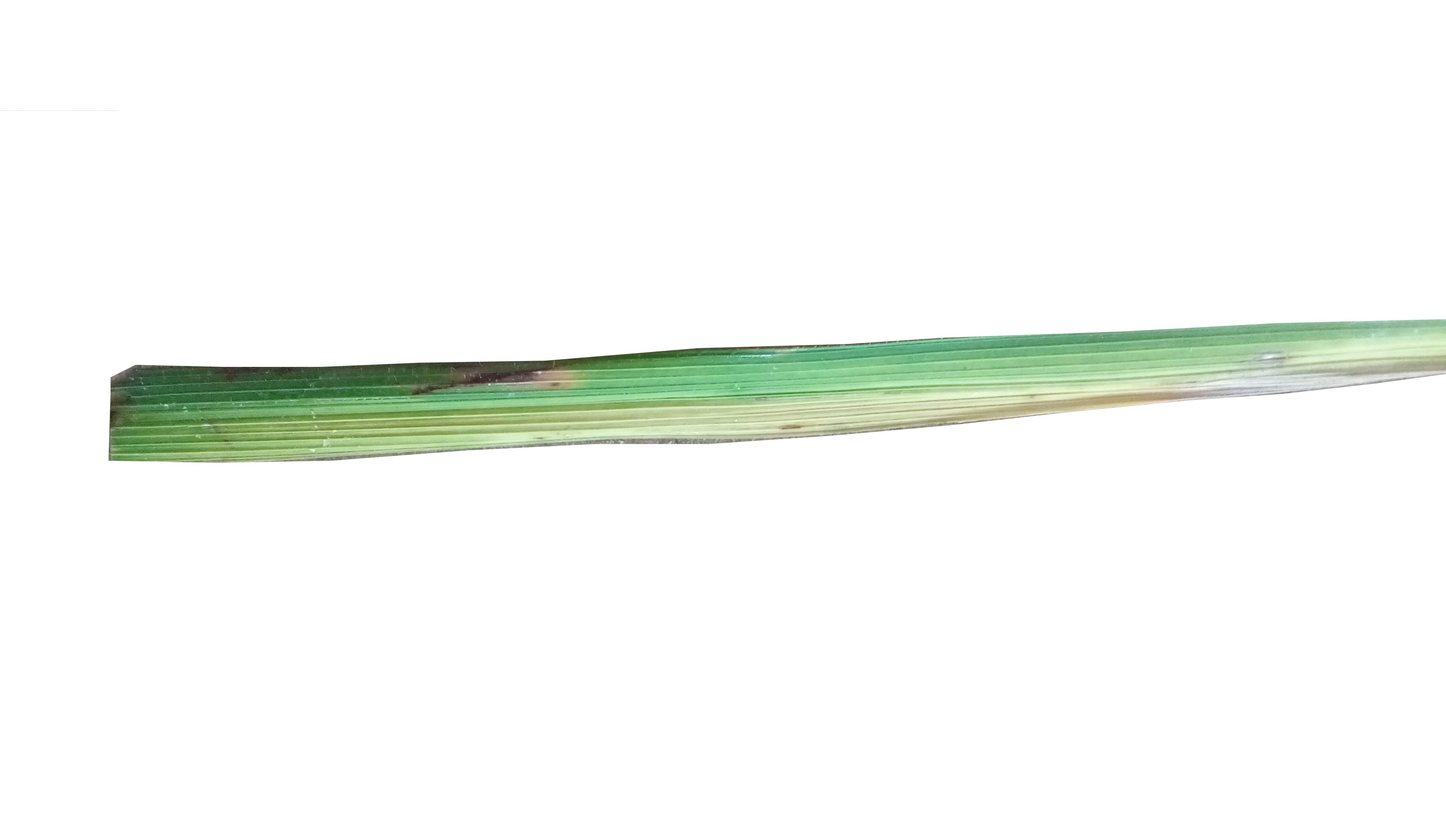Rice blast: (408, 361, 575, 398)
